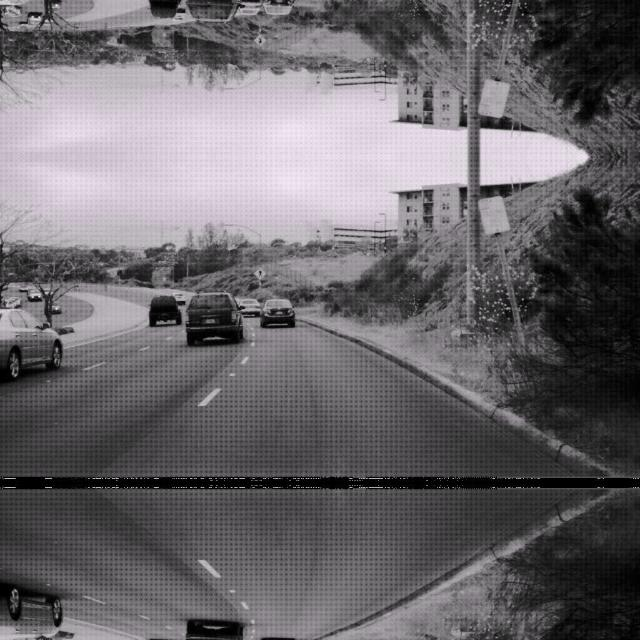pedestrianCrossing: (252, 264, 266, 278), (252, 34, 266, 48)
